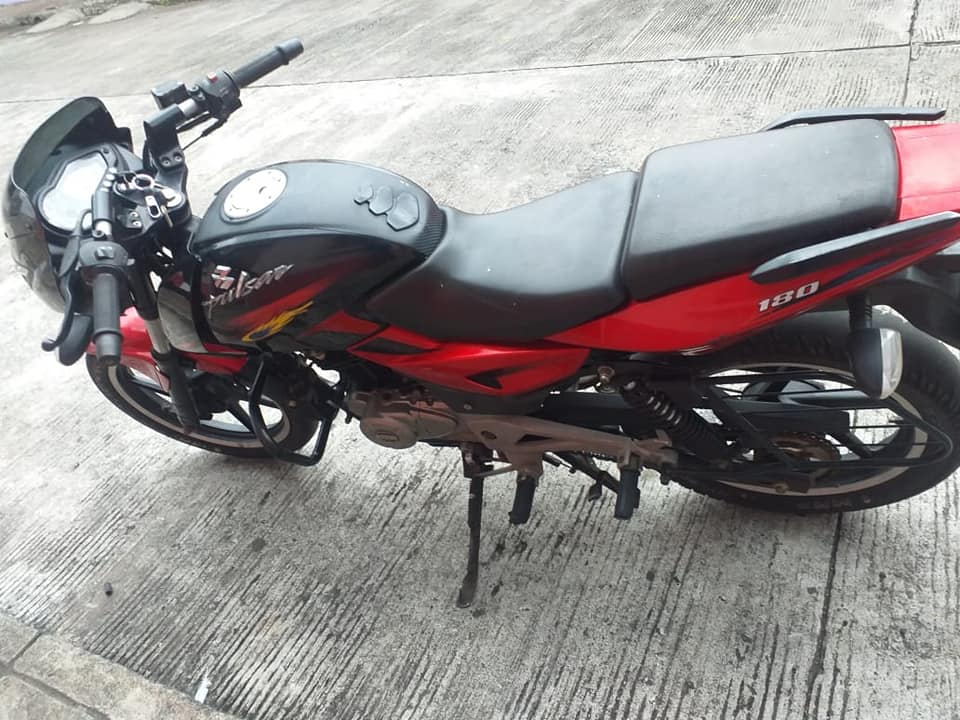moto: (4, 38, 959, 610)
